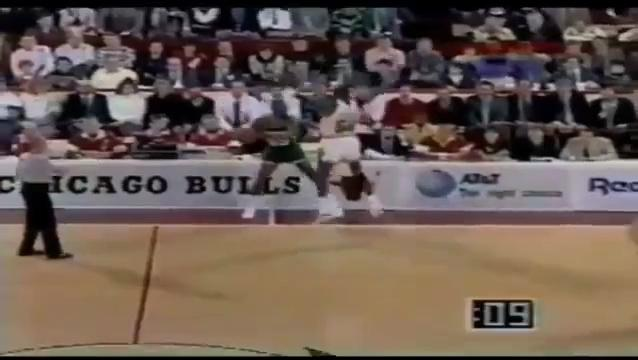Ball: (239, 129, 254, 143)
Person: (306, 78, 388, 222), (234, 92, 317, 217)
Referee: (9, 131, 73, 265)
